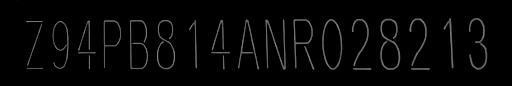letter: (464, 14, 492, 74), (289, 15, 317, 73), (406, 15, 434, 73), (261, 16, 289, 72), (318, 17, 346, 71), (376, 15, 402, 71), (235, 17, 261, 71), (152, 17, 178, 71), (206, 17, 232, 69), (22, 17, 48, 69), (348, 15, 372, 71), (126, 18, 150, 72), (100, 18, 124, 70), (74, 18, 98, 70), (440, 14, 460, 74), (49, 19, 71, 71), (184, 17, 200, 71)
